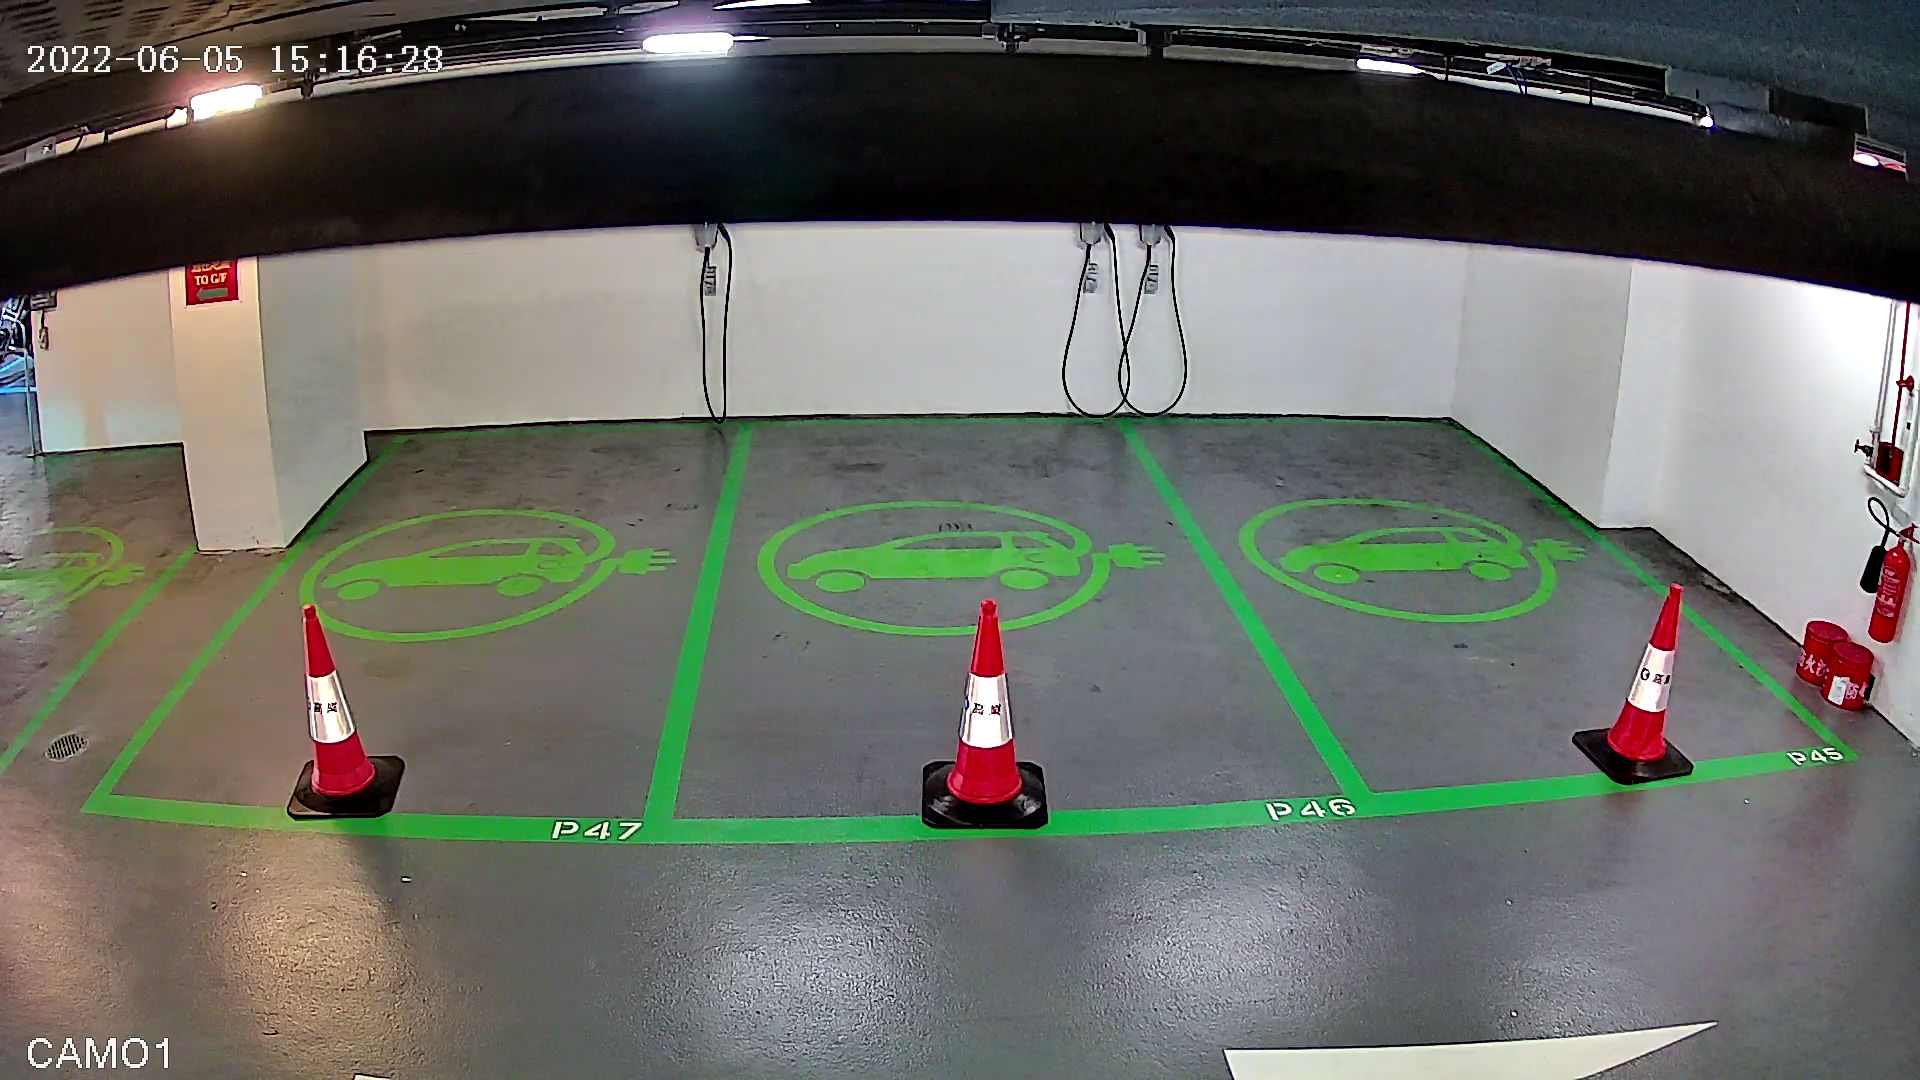space: (618, 363, 1381, 923), (1100, 365, 1884, 840), (66, 384, 756, 905)
